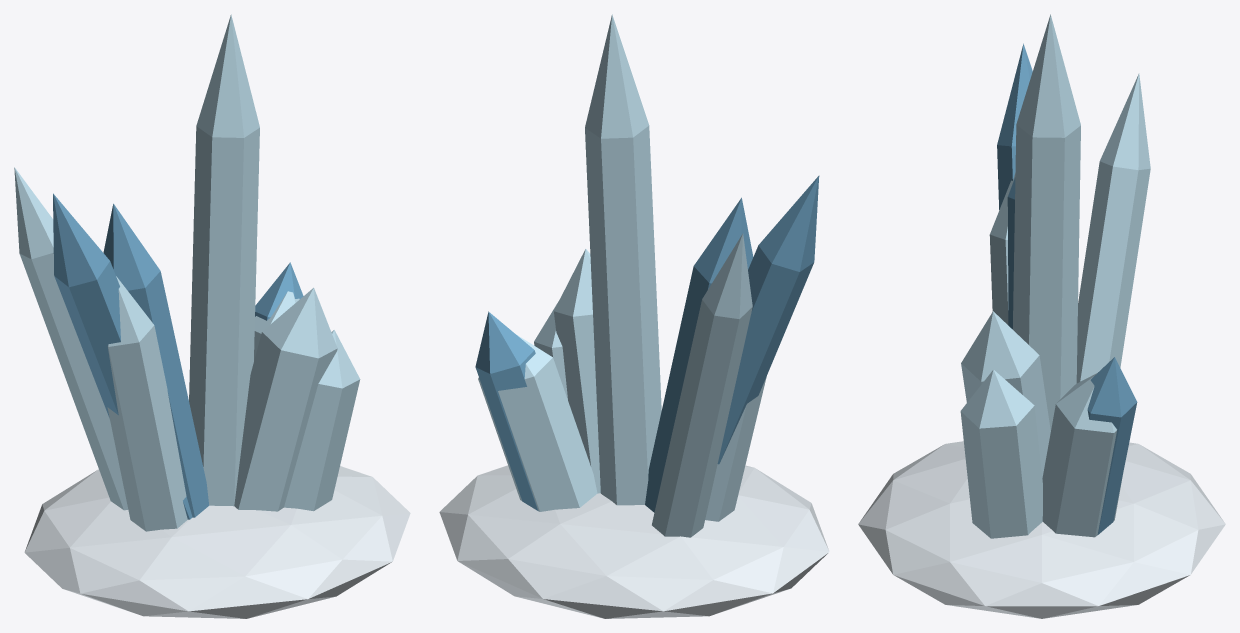
File: runtime.glb
3 views of the same model, side by side, from view 1: azimuth 30°, elevation 25°; view 2: azimuth 150°, elevation 25°; view 3: azimuth 270°, elevation 25° (orthographic).
Visible parts, largest first — view 1: frozen_crystal_ice_nocol, frozen_crystal_snow_noshadow_nocol, frozen_crystal_deep_nocol; view 2: frozen_crystal_ice_nocol, frozen_crystal_snow_noshadow_nocol, frozen_crystal_deep_nocol; view 3: frozen_crystal_ice_nocol, frozen_crystal_snow_noshadow_nocol, frozen_crystal_deep_nocol.
Boxes of the visible parts, box(x1,y1,x2,y2) form: frozen_crystal_ice_nocol: box(14, 14, 360, 531); frozen_crystal_snow_noshadow_nocol: box(24, 466, 410, 618); frozen_crystal_deep_nocol: box(53, 193, 303, 519); frozen_crystal_ice_nocol: box(478, 14, 766, 537); frozen_crystal_snow_noshadow_nocol: box(439, 465, 829, 618); frozen_crystal_deep_nocol: box(475, 175, 819, 512); frozen_crystal_ice_nocol: box(960, 14, 1150, 538); frozen_crystal_snow_noshadow_nocol: box(858, 441, 1225, 618); frozen_crystal_deep_nocol: box(997, 43, 1137, 534).
Size of the model in its own units: 2.82 by 4.39 by 2.61.
